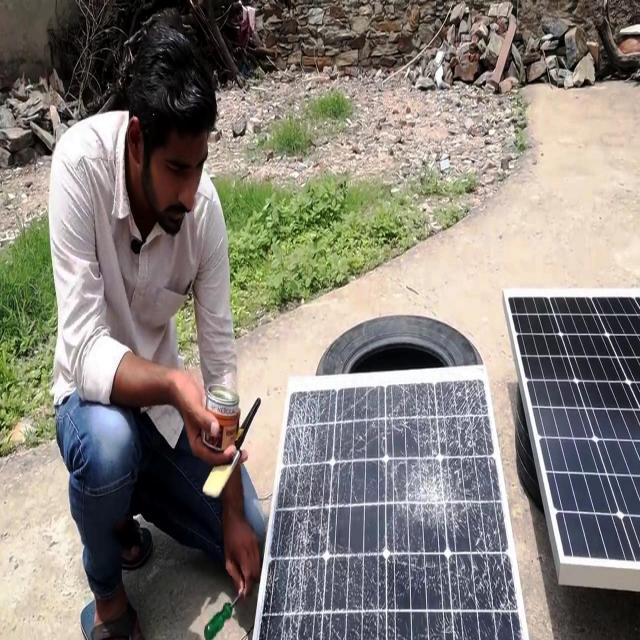faulty: (258, 378, 526, 640)
no faulty: (503, 292, 640, 567)
